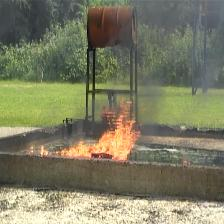fire: (31, 101, 141, 160)
